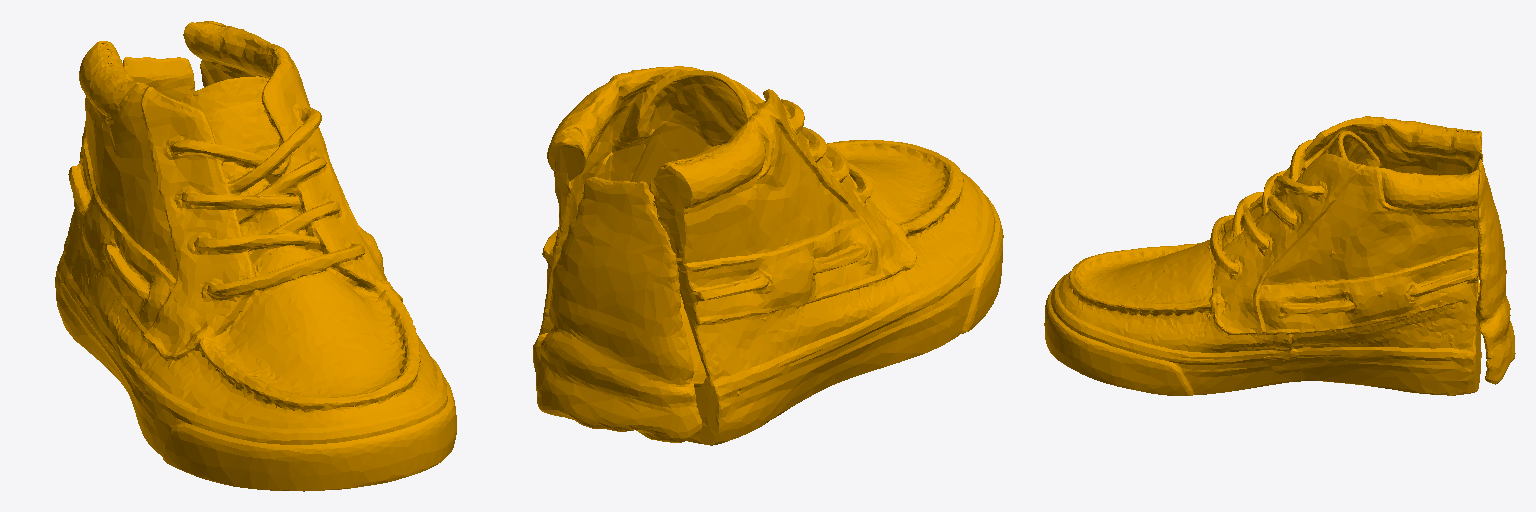
robot.urdf — 84phlf0m:
<?xml version='1.0'?>

<robot name="84phlf0m">
    <static>false</static>
    <link name="link">
        <inertial>
            <mass value="0.07801455697382617"/>
            <inertia ixx="9.898467688264778e-05" ixy="-4.698565216640447e-06" ixz="-2.6714698751818824e-06"
                     iyy="4.169651212030075e-05" iyz="-1.0665882874899455e-05" izz="0.00010134120269341658"/>
        </inertial>
        <collision name="collision">
            <geometry>
                <mesh filename="package://miscnet/train/84phlf0m/collision_model_vhacd.obj"/>
            </geometry>
        </collision>
        <visual name="visual">
            <geometry>
                <mesh filename="package://miscnet/train/84phlf0m/visual_model.obj"/>
            </geometry>
        </visual>
    </link>
</robot>

--- What the picture shows (computed from the rendered views, not written in the file) ---
Views: 3 orthographic renders of the robot side by side, from view 1: azimuth 30°, elevation 25°; view 2: azimuth 150°, elevation 25°; view 3: azimuth 270°, elevation 25°.
Model 84phlf0m with 1 links and 0 joints (none), rooted at link, posed every joint at zero.
Links seen in each view (by area): view 1: link; view 2: link; view 3: link.
Boxes of the visible links, bbox=[...] form: link: bbox=[55, 21, 456, 491]; link: bbox=[533, 66, 1003, 445]; link: bbox=[1044, 116, 1515, 395].
Size in the robot's own frame: 0.0731 by 0.137 by 0.0726 metres.
Meshes: 1 distinct files referenced, 1 mesh visuals loaded (1 OBJ).
